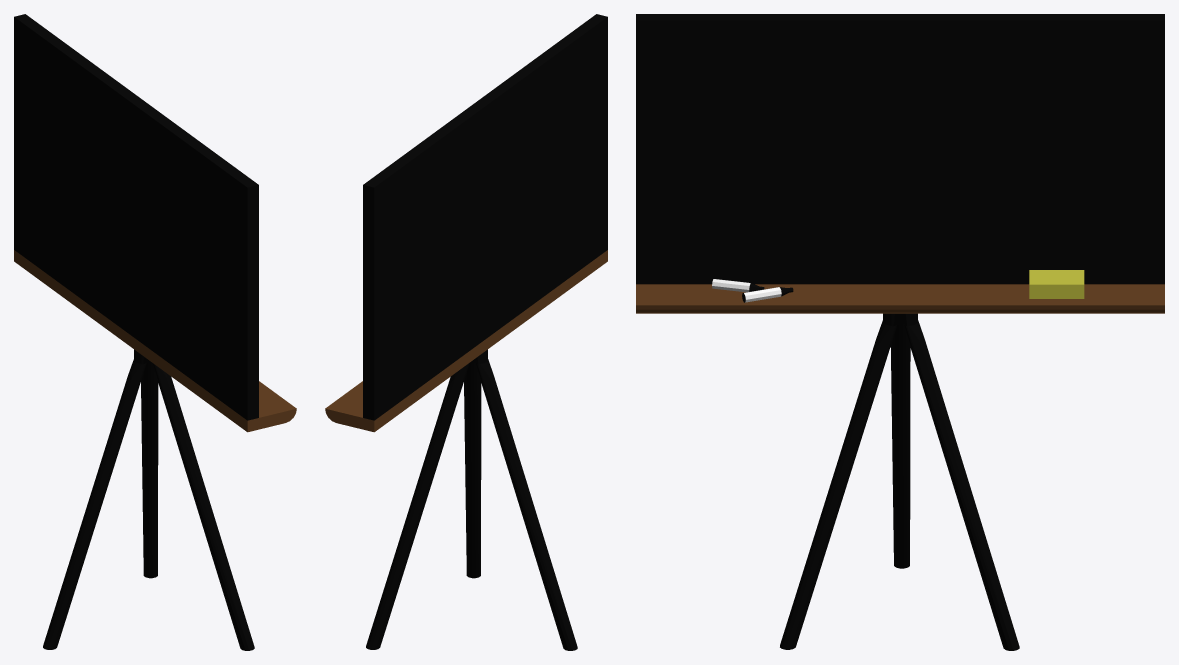
The model's file is blackboard.glb.
3 views of the same model, side by side, from view 1: azimuth 30°, elevation 25°; view 2: azimuth 150°, elevation 25°; view 3: azimuth 270°, elevation 25° (orthographic). The views are drawn at different scales.
Visible parts, largest first — view 1: Cube; view 2: Cube; view 3: Cube.
Part boxes in pixels (x1,y1,x2,y2): Cube: [14, 14, 296, 650]; Cube: [325, 14, 607, 650]; Cube: [636, 14, 1164, 650].
Bounding box in the file's own units: 1.28 × 3.97 × 3.19.
4 materials, 4 textured.
